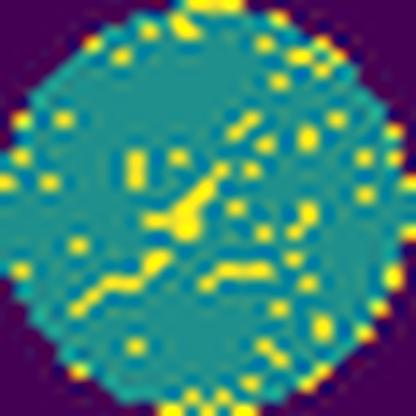Center: (137, 155, 232, 245)
